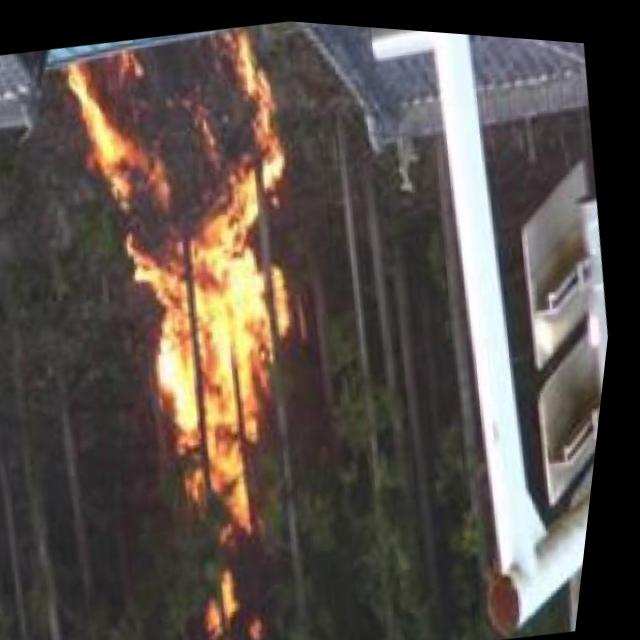Fire: (18, 9, 378, 554)
